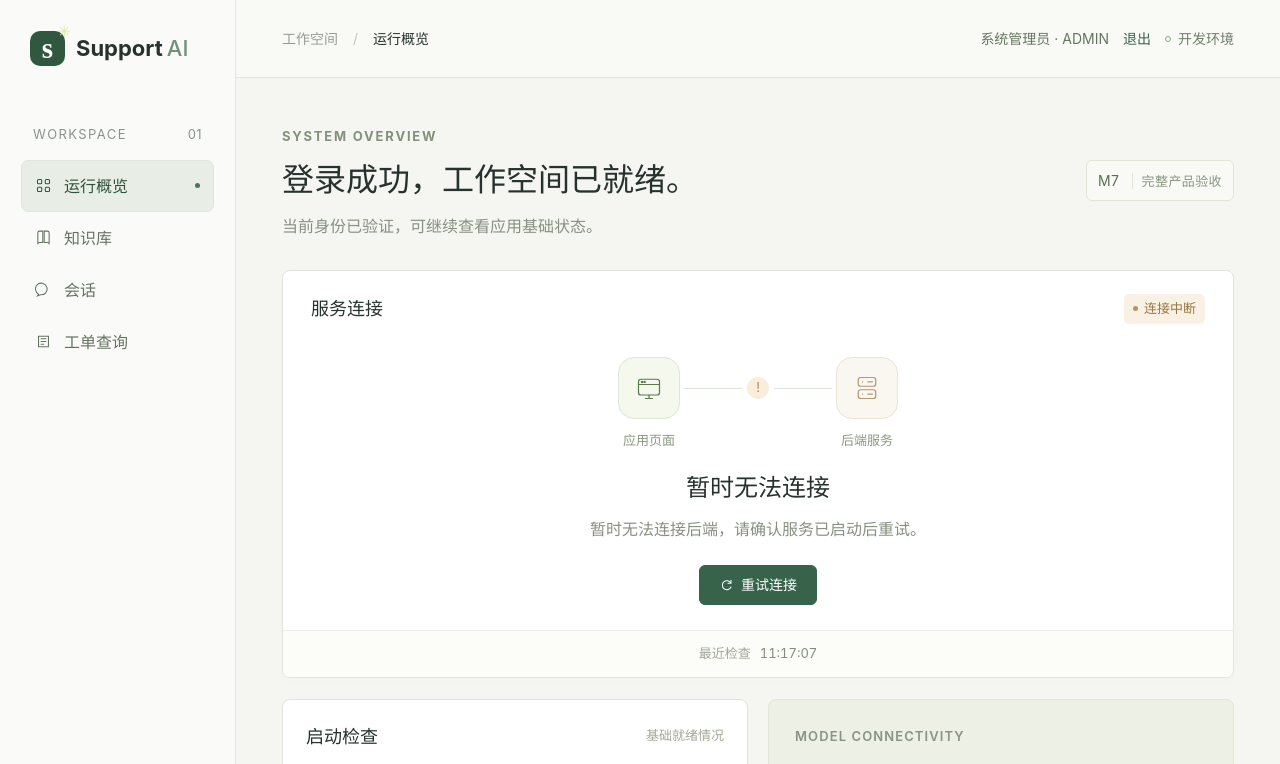
Scenario: 运行概览 › 网络失败后可重试并恢复成功状态
Click the button with class "check-button": coordinates (758, 585) x1=699 y1=565 x2=817 y2=605
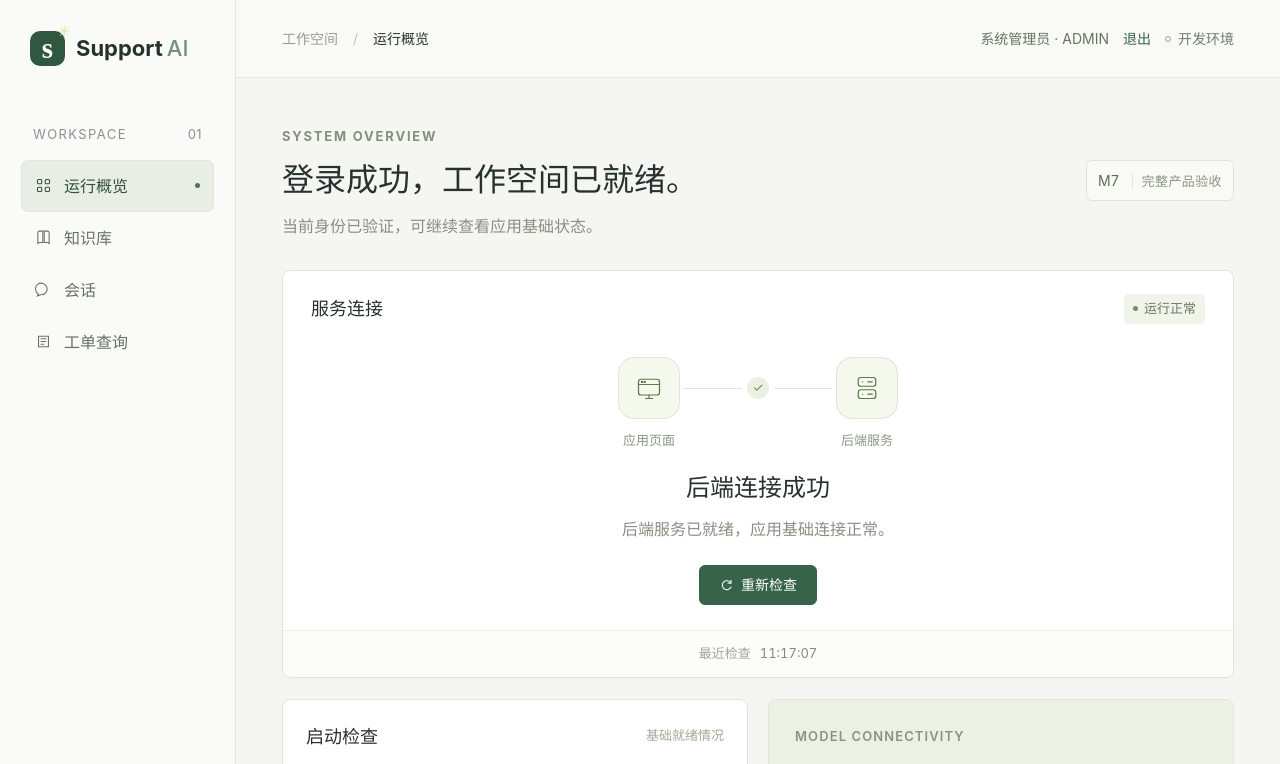
Expected: the text "后端连接成功" is shown, x1=686 y1=473 x2=830 y2=502
